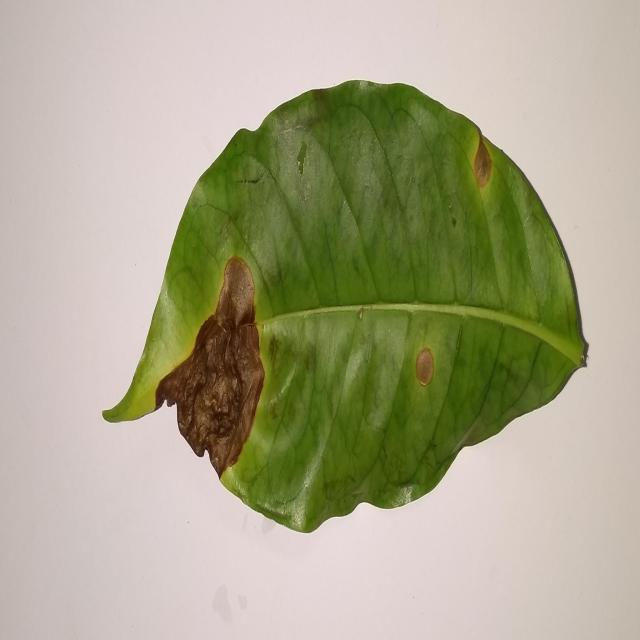Enfermedad-Antracnosis: (101, 79, 589, 536)
